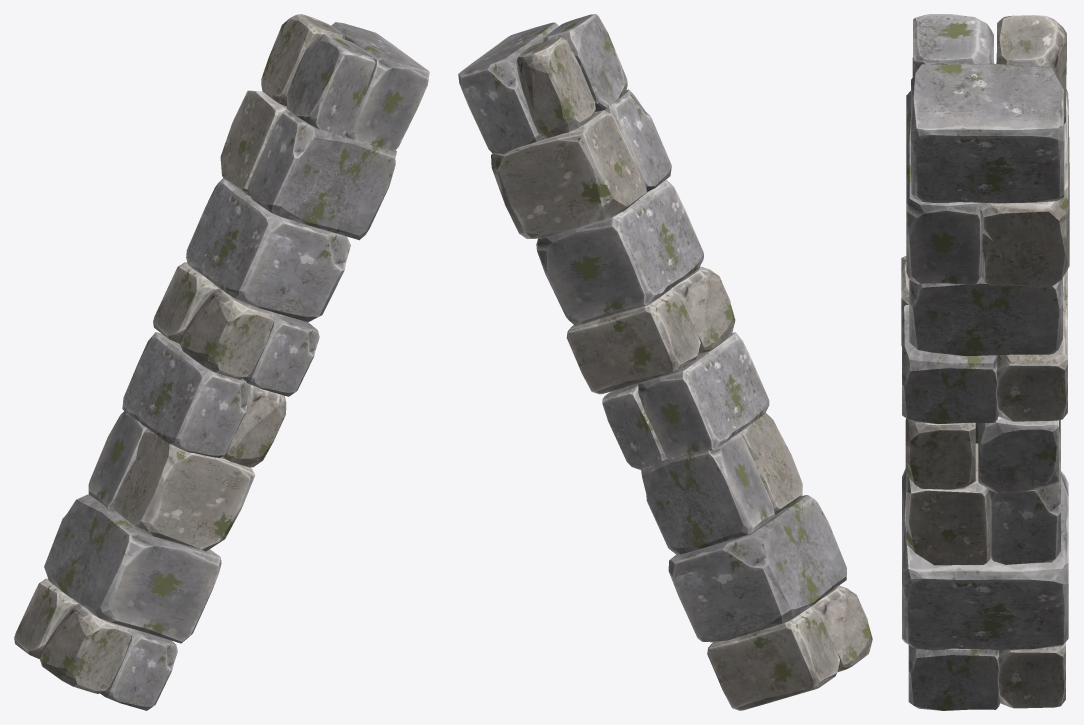
3 renders of one model, left to right at view 1: azimuth 30°, elevation 25°; view 2: azimuth 150°, elevation 25°; view 3: azimuth 270°, elevation 25°, orthographic. The views are drawn at different scales.
Parts seen in each view (by area): view 1: SM_BB_T3_BeamThick_Steep_LOD0; view 2: SM_BB_T3_BeamThick_Steep_LOD0; view 3: SM_BB_T3_BeamThick_Steep_LOD0.
Boxes of the visible parts, <box> form: SM_BB_T3_BeamThick_Steep_LOD0: <box>14,14,429,710</box>; SM_BB_T3_BeamThick_Steep_LOD0: <box>458,14,872,710</box>; SM_BB_T3_BeamThick_Steep_LOD0: <box>901,14,1069,710</box>.
Size of the model in its own units: 2.01 by 3.23 by 0.5983.
Materials: 1 (1 with a texture image).
